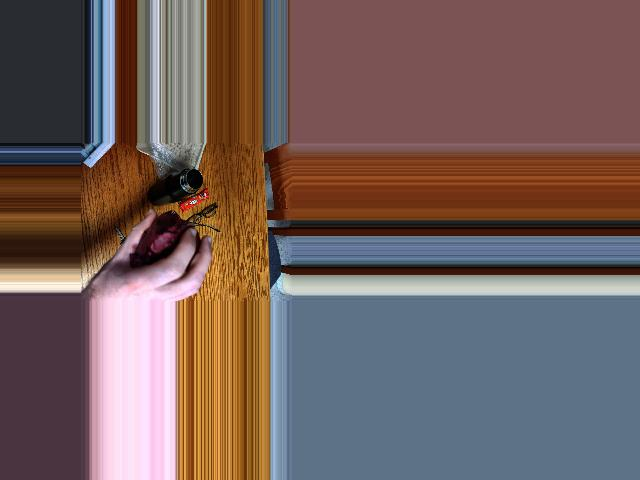onion: (130, 215, 198, 270)
